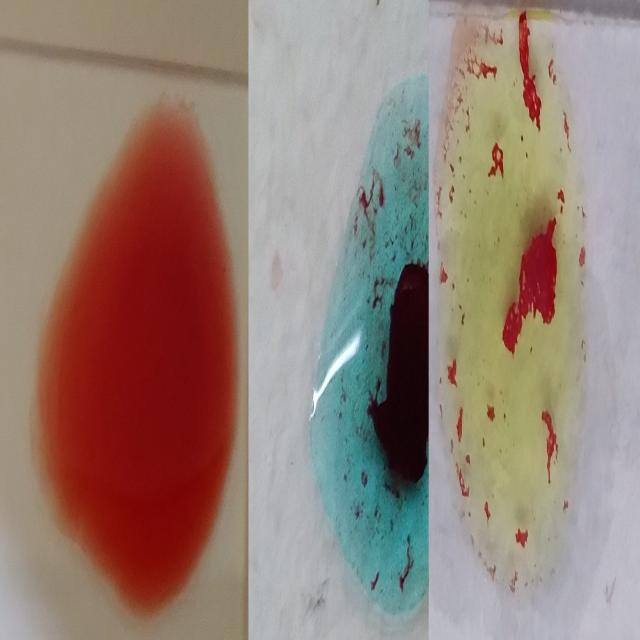A: (315, 63, 426, 624)
B: (438, 15, 588, 601)
